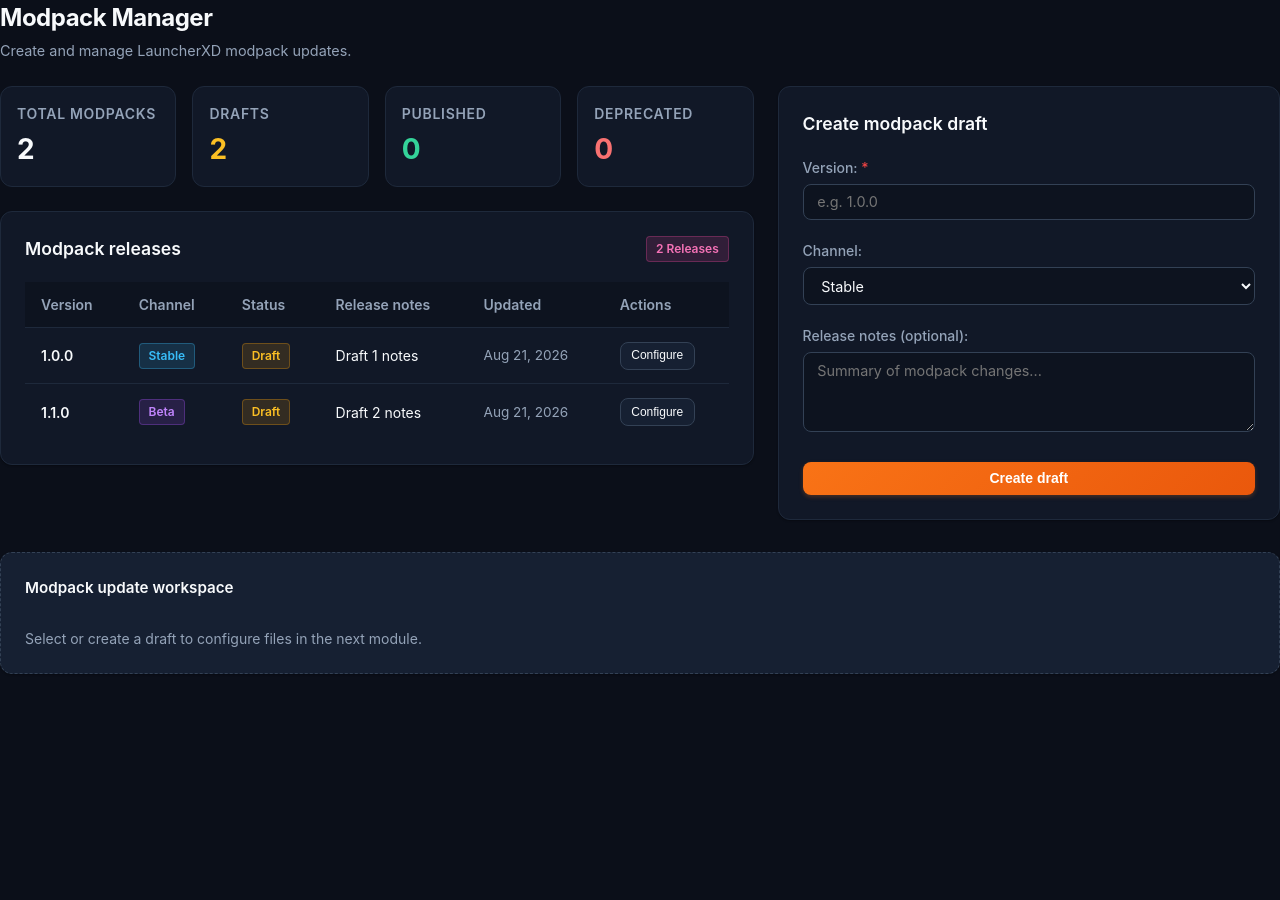
Scenario: Modpack Workspace Inline UI Functional Tests (Module 3B-1) › 7. Stale response from previous selection does not overwrite the active workspace
# Select Draft 1 (slow response)
Click the button with test id "configure-modpack-modpack-draft-1" at (657, 356), box [620, 342, 695, 370]
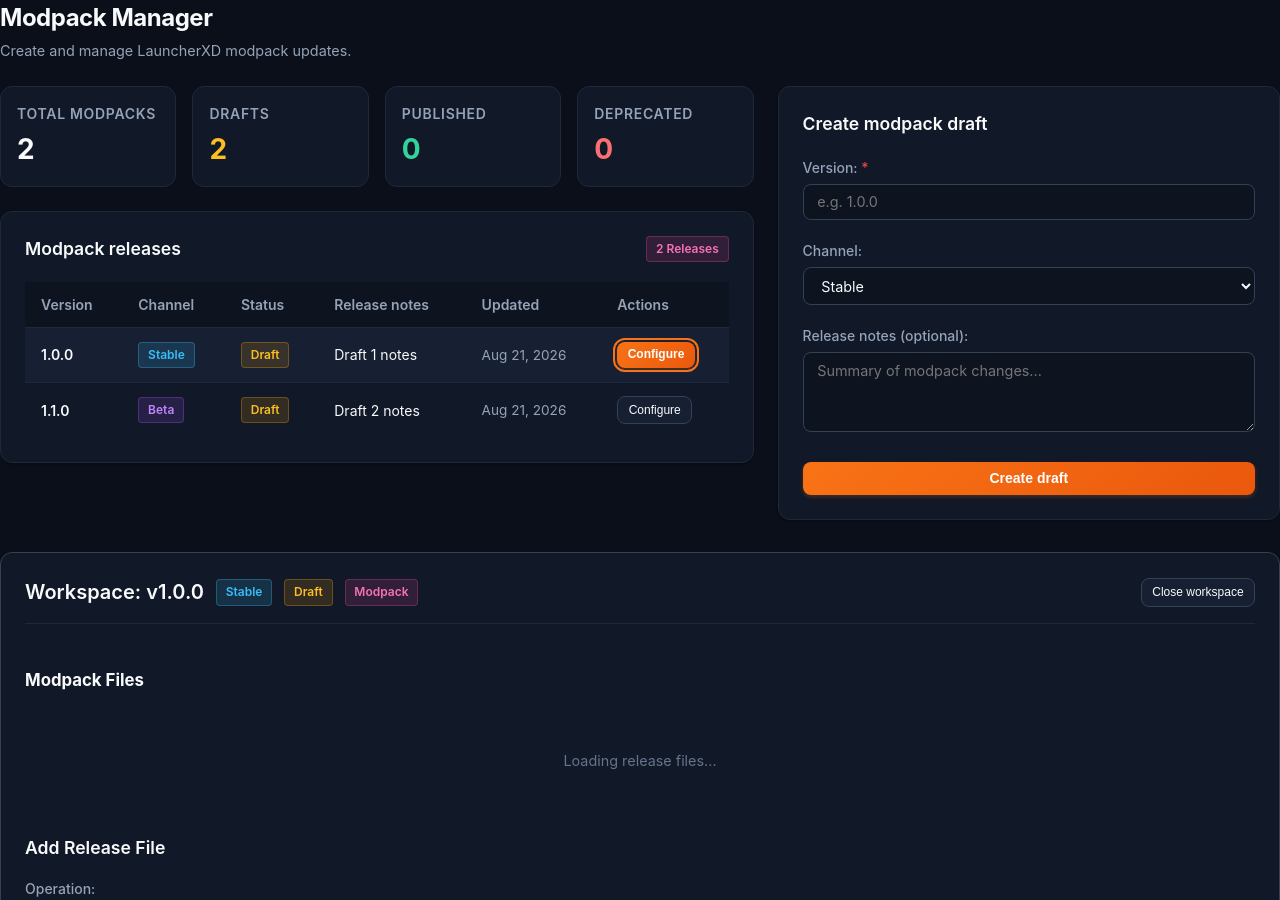
# Quickly switch to Draft 2
Click the button with test id "configure-modpack-modpack-draft-2" at (655, 410), box [617, 396, 692, 424]
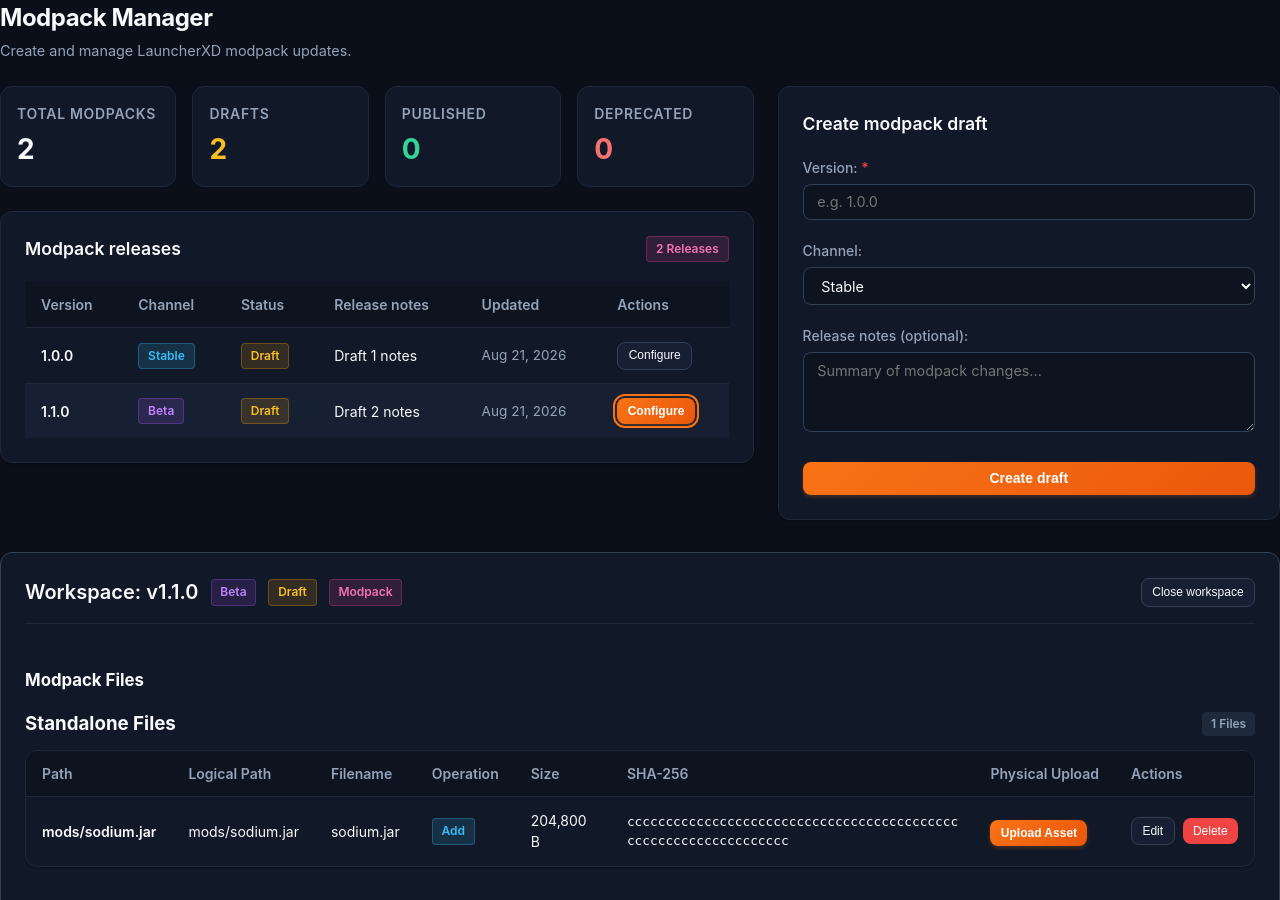
Check: the heading "Workspace: v1.1.0" is shown, box [25, 578, 198, 608]
Check: the 1st text "mods/sodium.jar" is shown, box [26, 796, 172, 866]
